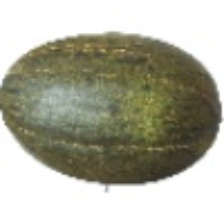honeydew: (13, 27, 203, 189)
